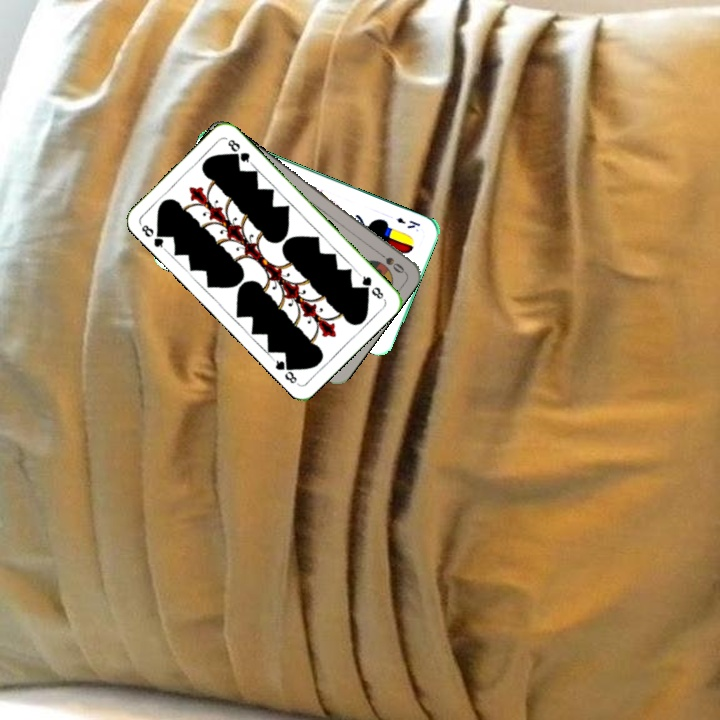EK: (393, 213, 423, 231)
G8: (136, 221, 168, 253), (355, 270, 386, 302)
SO: (372, 246, 407, 276)
